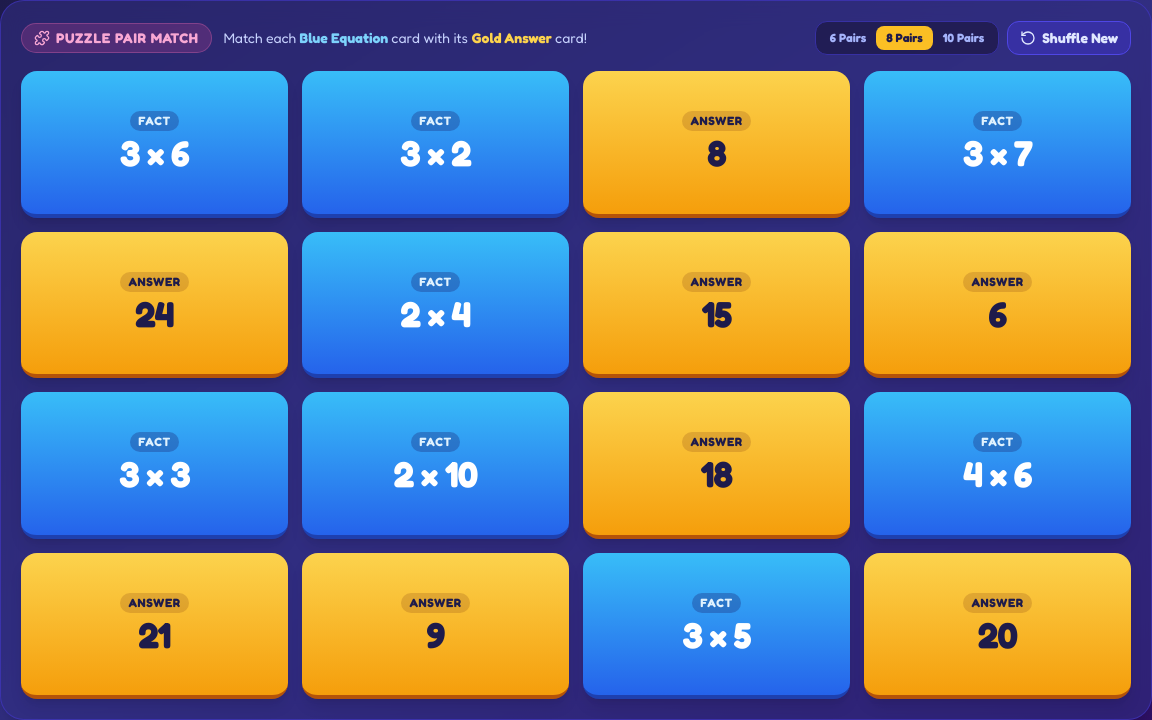
Test: PairMatchMode › renders unique equation and answer pairs and matches them accurately
The image size is (1152, 720).
Expected: the button "Answer 18" is shown, [583,392,850,538]
Click the button "Fact 3 × 6".
click(154, 144)  # box [21,71,288,218]
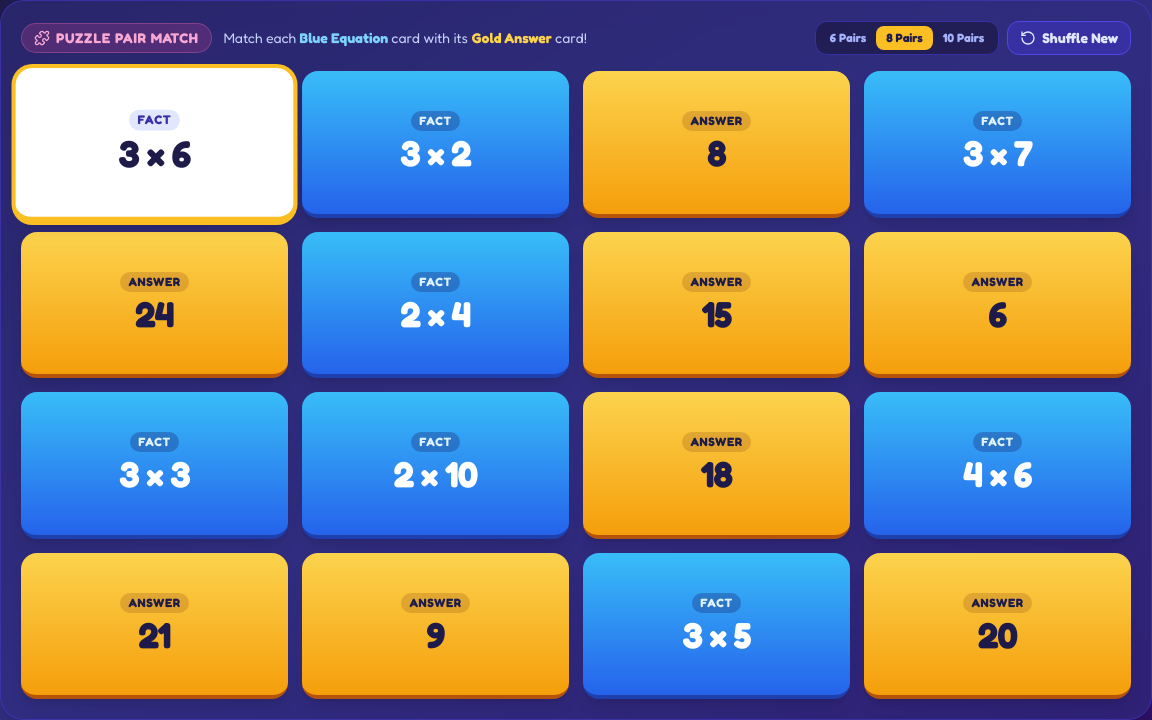
Click the button "Answer 18".
click(716, 465)  # box [583,392,850,538]
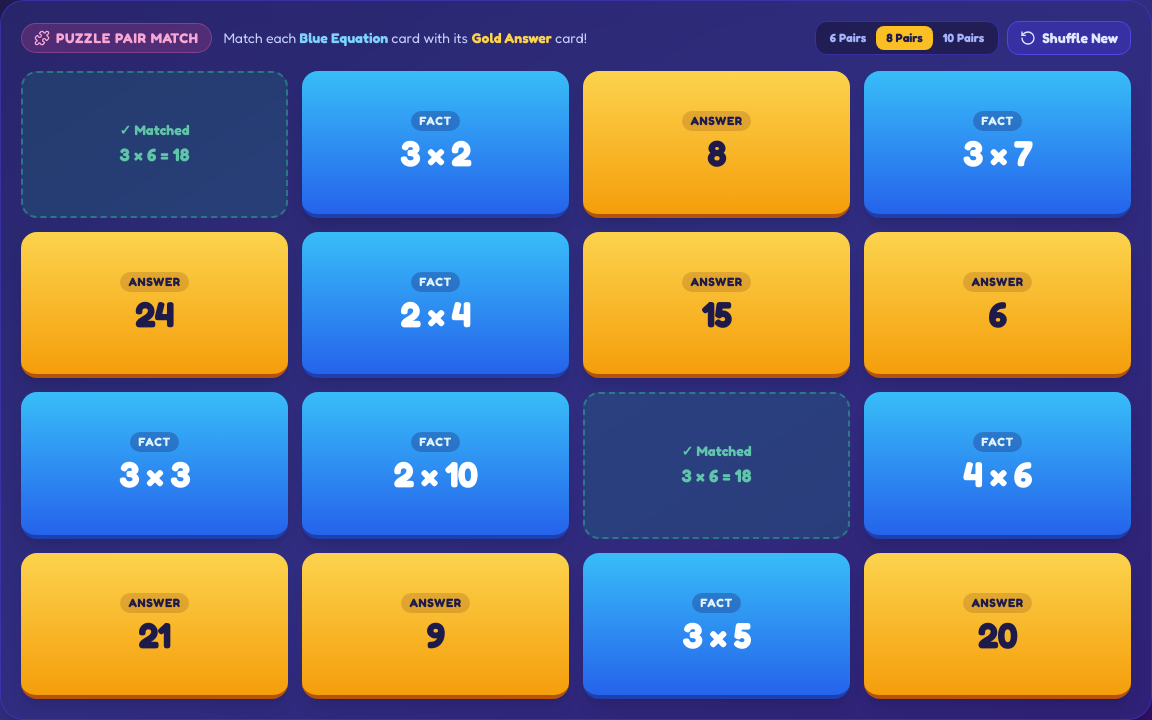
Expected: the text "✓ Matched" is shown 2 times, [120,120,190,140]; [682,441,752,461]
